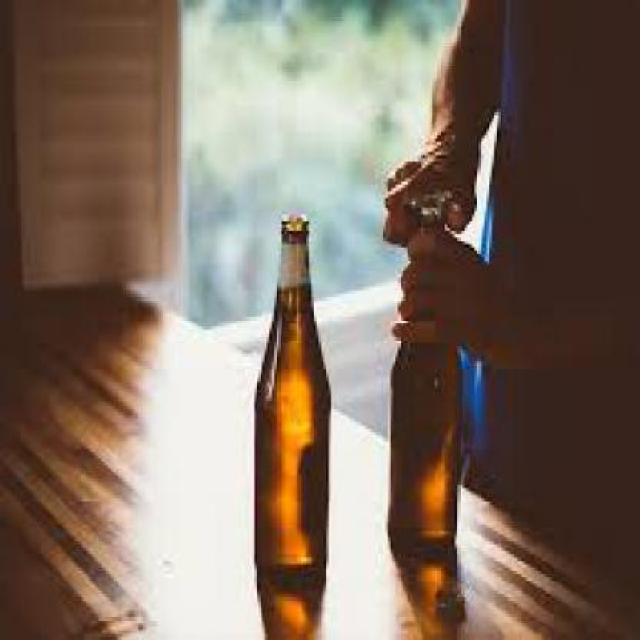Drinking: (378, 172, 479, 580), (247, 191, 345, 594)
